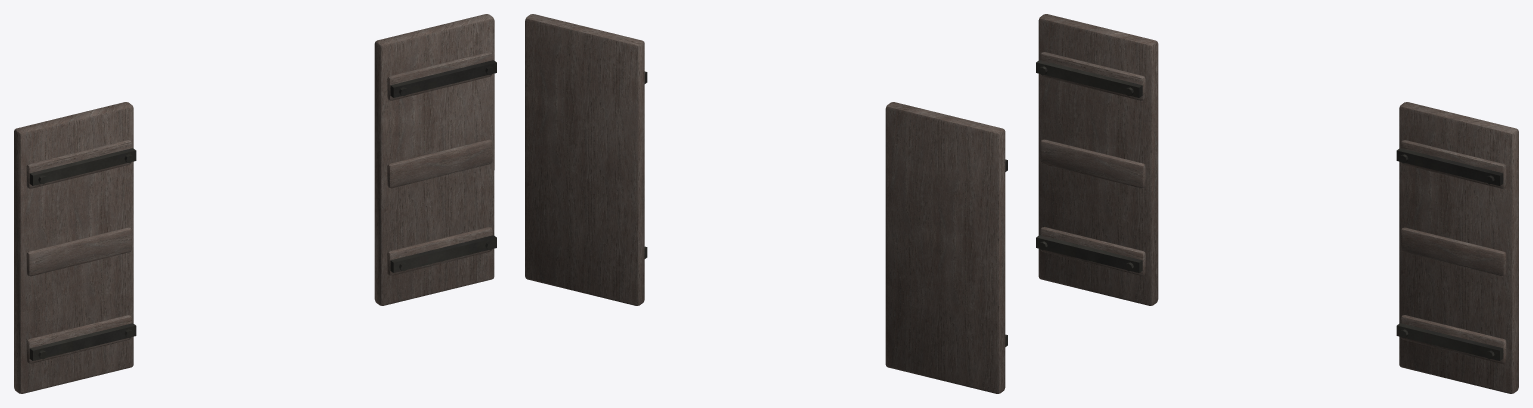
Rendered from FShutter_Pair.gltf.
3 views of the same model, side by side, from view 1: azimuth 30°, elevation 25°; view 2: azimuth 150°, elevation 25°; view 3: azimuth 330°, elevation 25° (orthographic).
Visible parts, largest first — view 1: FShutter_Pair; view 2: FShutter_Pair; view 3: FShutter_Pair.
Part boxes in pixels (bbox=[...]): FShutter_Pair: bbox=[14, 14, 496, 393]; FShutter_Pair: bbox=[525, 14, 1007, 393]; FShutter_Pair: bbox=[1036, 14, 1518, 393].
Bounding box in the file's own units: 1.82 × 0.96 × 0.1112.
Materials: 2 (2 with a texture image).
